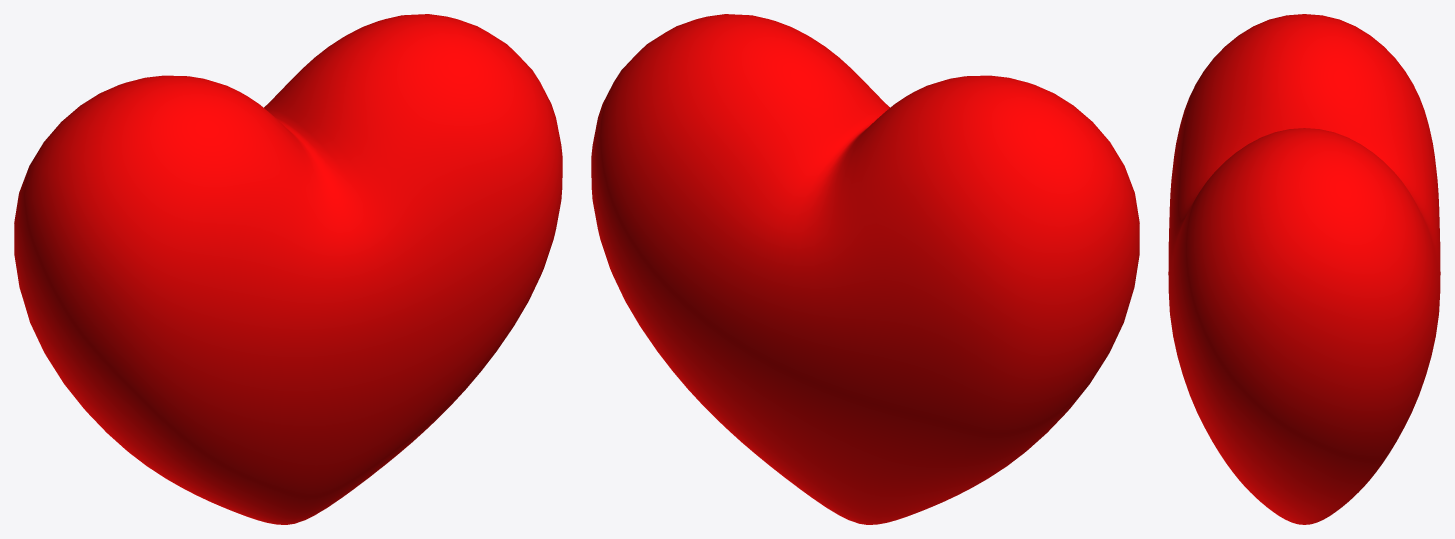
Rendered from PumpingHeart.fbx.
3 views of the same model, side by side, from view 1: azimuth 30°, elevation 25°; view 2: azimuth 150°, elevation 25°; view 3: azimuth 270°, elevation 25° (orthographic). The views are drawn at different scales.
Parts seen in each view (by area): view 1: BASE HEART; view 2: BASE HEART; view 3: BASE HEART.
Boxes of the visible parts, <box> form: BASE HEART: <box>14,14,562,524</box>; BASE HEART: <box>591,14,1139,524</box>; BASE HEART: <box>1168,14,1440,524</box>.
Bounding box in the file's own units: 85.81 × 74.83 × 42.25.
